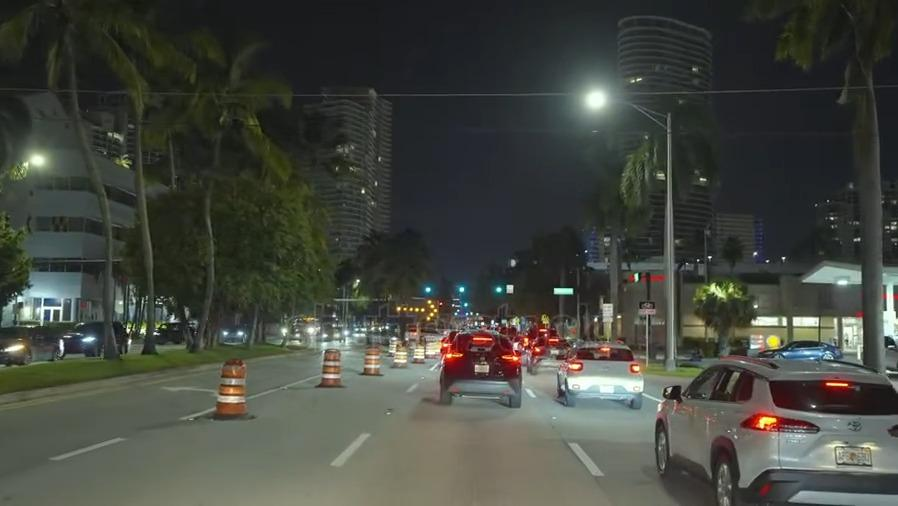arrow traffic sign: (389, 296, 440, 325)
car: (654, 354, 898, 506), (439, 329, 523, 409), (556, 341, 645, 413), (63, 320, 135, 359), (753, 335, 847, 363), (0, 323, 65, 363), (527, 335, 566, 371), (145, 321, 198, 347), (879, 330, 898, 373), (219, 323, 251, 344)
cone: (217, 359, 249, 419), (320, 347, 340, 389), (361, 345, 381, 378), (393, 343, 407, 367), (413, 342, 425, 365)
traffic light: (453, 282, 468, 299), (491, 283, 505, 299), (421, 283, 435, 298)
wheel: (706, 443, 738, 506), (652, 419, 674, 474)
